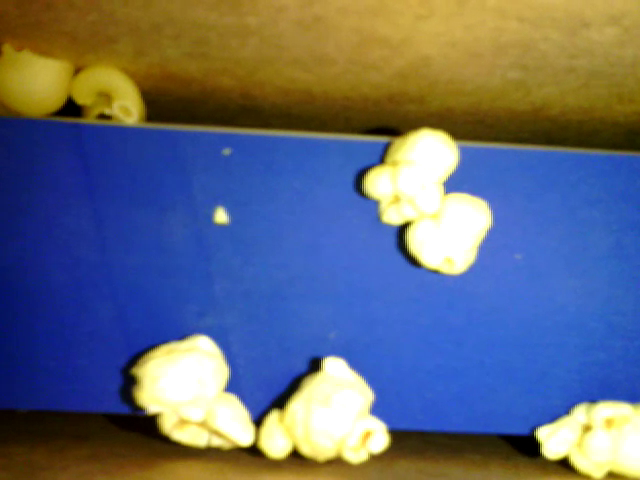elbow: (69, 66, 141, 121)
shell: (1, 42, 74, 114), (82, 94, 145, 123)
